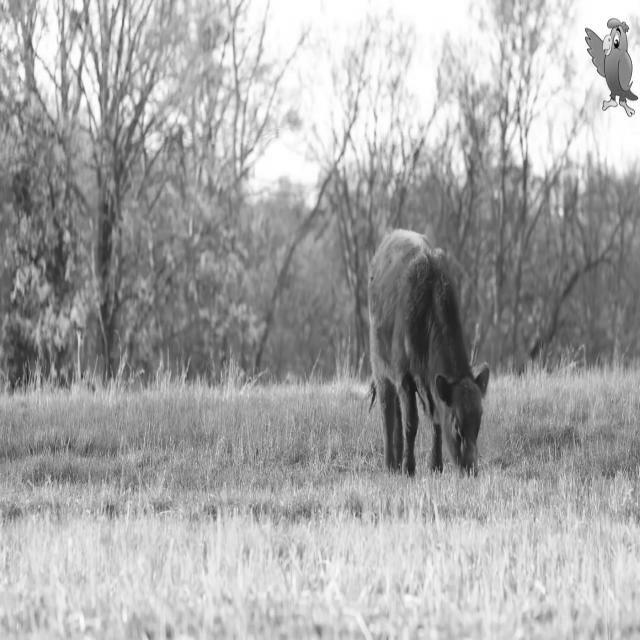cow: (369, 229, 489, 474)
